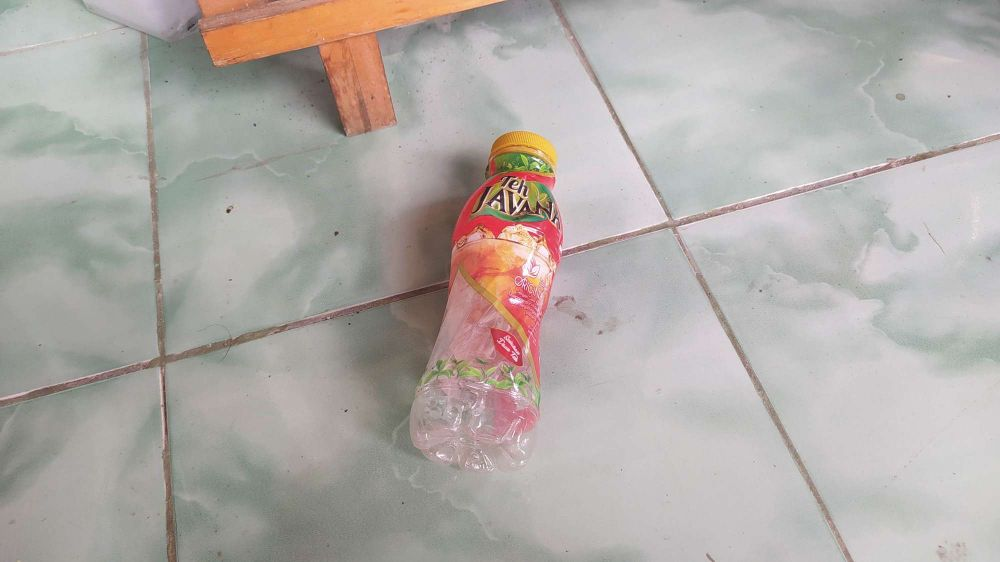botol: (401, 112, 589, 495)
